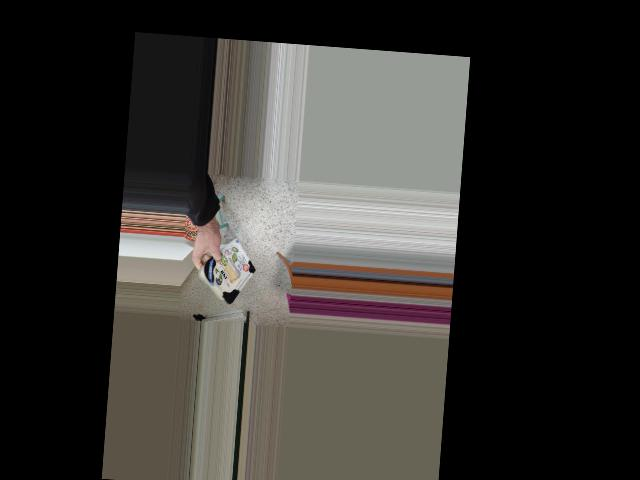cheese: (185, 245, 263, 304)
